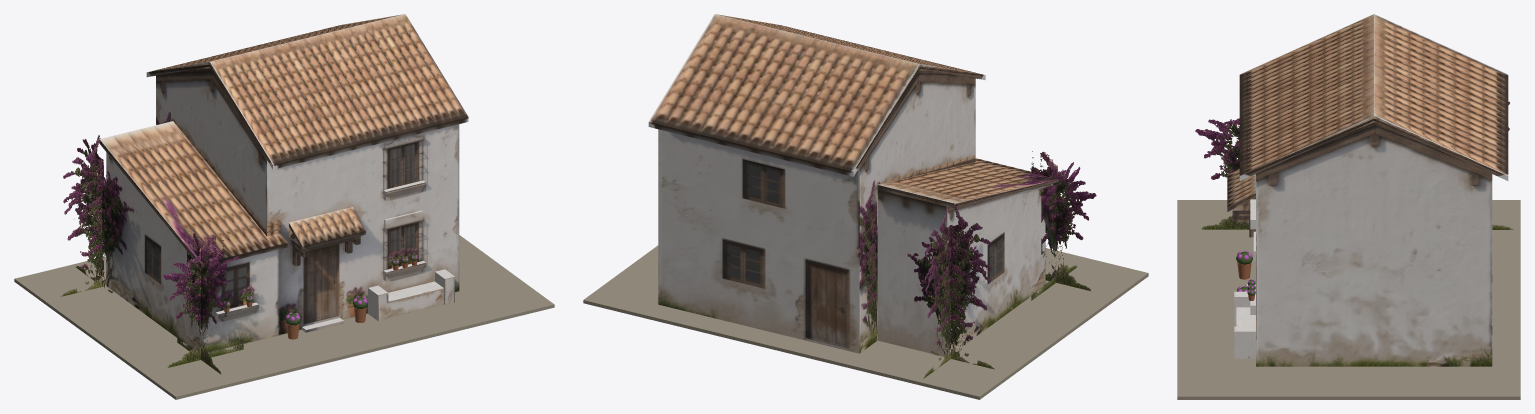
Rendered from casa_rustica.glb.
The picture shows the model from 3 angles, left to right: view 1: azimuth 30°, elevation 25°; view 2: azimuth 150°, elevation 25°; view 3: azimuth 270°, elevation 25°; orthographic projection. The views are drawn at different scales.
Parts seen in each view (by area): view 1: CR_Casa, CR_Suelo, CR_Buganvillas, CR_MacetaPuerta_I_Tiesto; view 2: CR_Casa, CR_Suelo, CR_Buganvillas; view 3: CR_Casa, CR_Suelo, CR_Buganvillas.
Part boxes in pixels (x1,y1,x2,y2): CR_Casa: [99, 14, 468, 351]; CR_Suelo: [14, 235, 554, 399]; CR_Buganvillas: [60, 135, 243, 374]; CR_MacetaPuerta_I_Tiesto: [223, 260, 417, 339]; CR_Casa: [648, 14, 1060, 356]; CR_Suelo: [583, 245, 1148, 399]; CR_Buganvillas: [907, 151, 1096, 378]; CR_Casa: [1227, 14, 1508, 366]; CR_Suelo: [1177, 200, 1520, 399]; CR_Buganvillas: [1195, 101, 1513, 229].
Bounding box in the file's own units: 13 × 7.86 × 9.6.
Materials: 6 (2 with a texture image).
